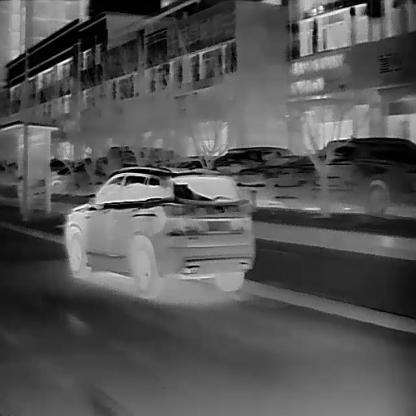car: (63, 165, 255, 298), (321, 134, 416, 217), (274, 156, 335, 208), (213, 146, 289, 186)
